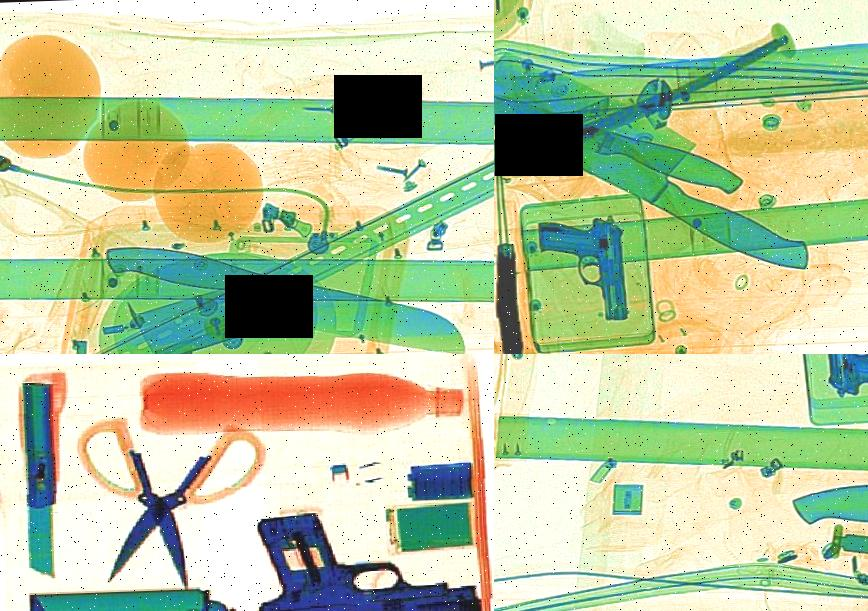Gun: (252, 505, 483, 611), (534, 213, 631, 324), (494, 241, 529, 354)
Knife: (494, 30, 863, 289), (82, 219, 491, 354), (497, 34, 800, 169), (494, 60, 749, 210), (778, 463, 868, 606)
Scissors: (74, 410, 271, 595)
